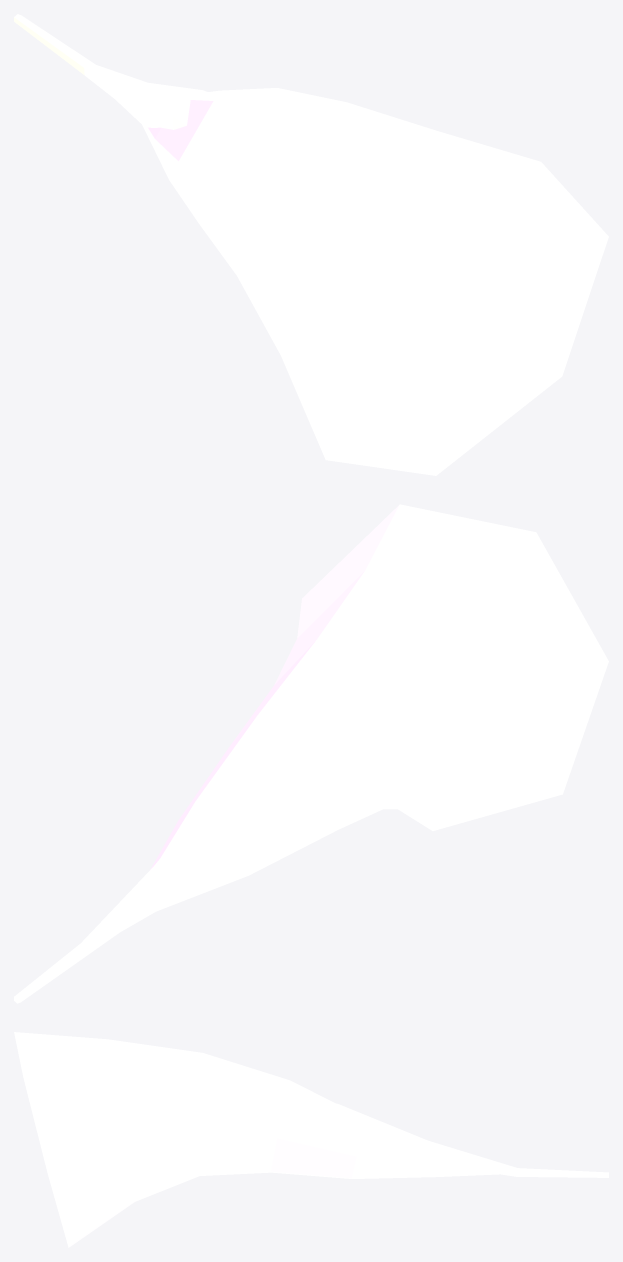
The model's file is flame.glb.
3 renders of one model, top to bottom at view 1: azimuth 30°, elevation 25°; view 2: azimuth 150°, elevation 25°; view 3: azimuth 270°, elevation 25°, orthographic. The views are drawn at different scales.
Parts seen in each view (by area): view 1: TurboFlame; view 2: TurboFlame; view 3: TurboFlame.
Part boxes in pixels (left/top/right/bottom): TurboFlame: left=14, top=14, right=608, bottom=475; TurboFlame: left=14, top=504, right=608, bottom=1003; TurboFlame: left=14, top=1032, right=608, bottom=1247.
Size of the model in its own units: 0.295 by 0.2849 by 0.7784.
